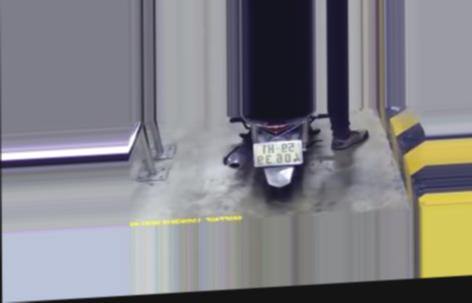License_Plate: (249, 135, 307, 169)
